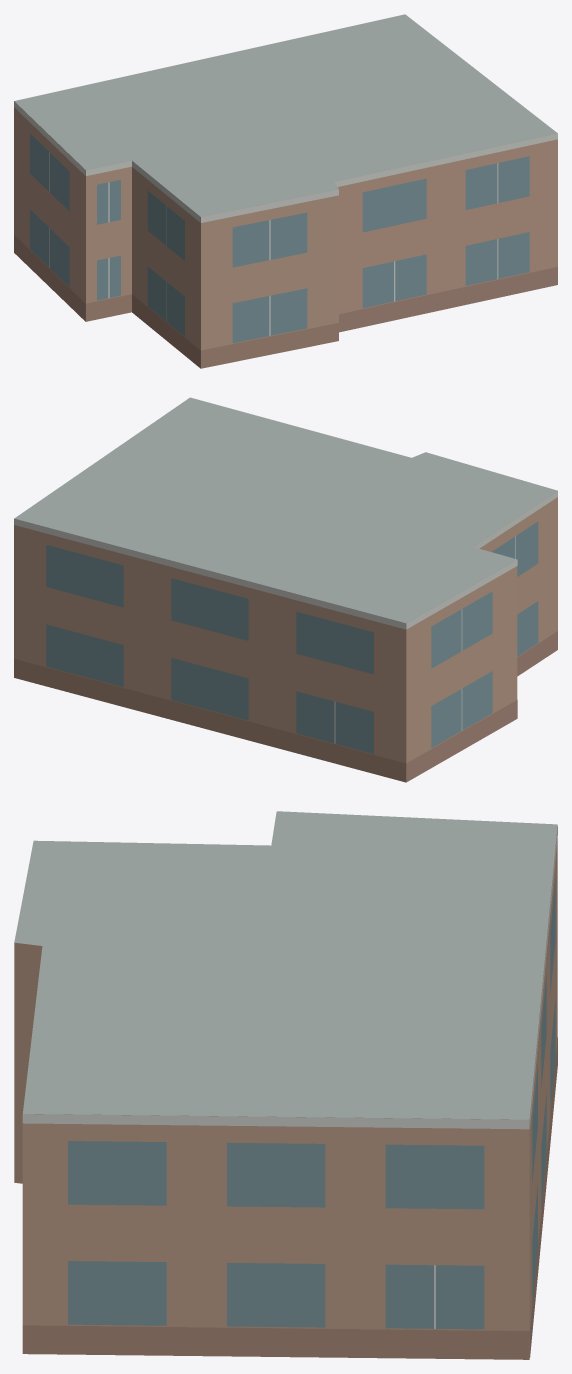
File: survey-upis-32950881.glb
3 renders of one model, top to bottom at view 1: azimuth 30°, elevation 25°; view 2: azimuth 150°, elevation 25°; view 3: azimuth 270°, elevation 25°, orthographic. The views are drawn at different scales.
Parts seen in each view (by area): view 1: survey-upis-32950881.tmp; view 2: survey-upis-32950881.tmp; view 3: survey-upis-32950881.tmp.
Boxes of the visible parts, x1,y1,x2,y2 form: survey-upis-32950881.tmp: (14,14,557,368); survey-upis-32950881.tmp: (14,397,557,782); survey-upis-32950881.tmp: (14,811,557,1359).
Size of the model in its own units: 16.82 by 6.1 by 12.53.
